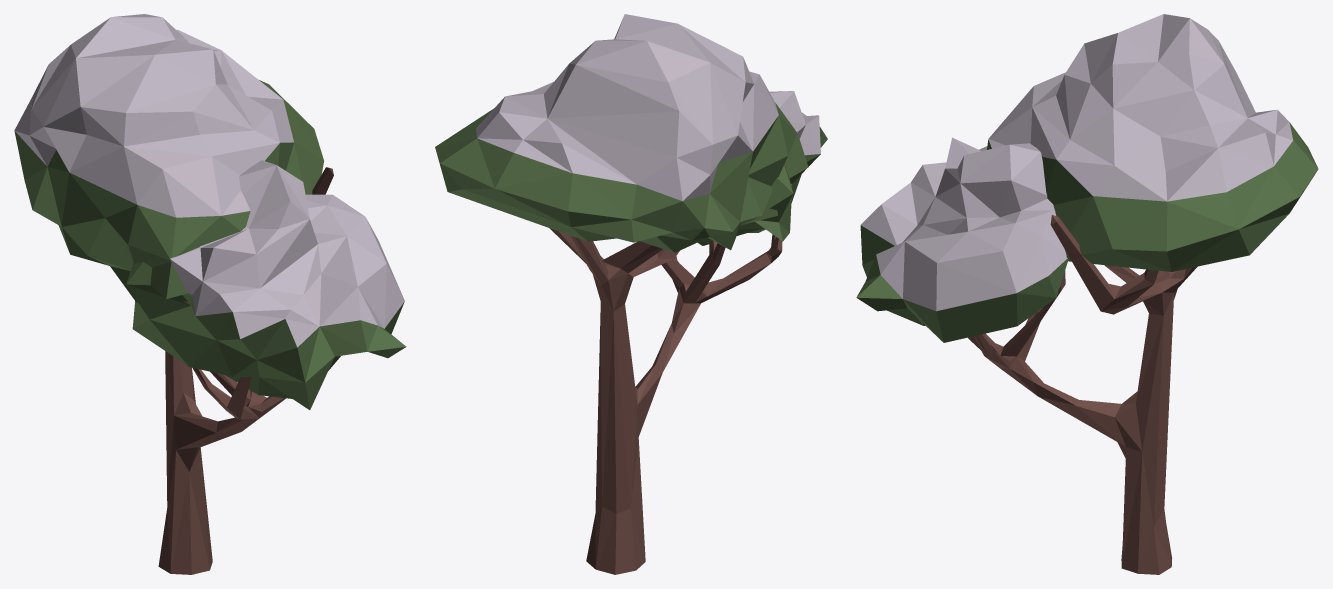
File: CommonTree_Snow_2.lod2.glb
3 views of the same model, side by side, from view 1: azimuth 30°, elevation 25°; view 2: azimuth 150°, elevation 25°; view 3: azimuth 270°, elevation 25° (orthographic). The views are drawn at different scales.
Parts seen in each view (by area): view 1: CommonTree_Snow_2; view 2: CommonTree_Snow_2; view 3: CommonTree_Snow_2.
Boxes of the visible parts, <box> form: CommonTree_Snow_2: <box>14,14,406,574</box>; CommonTree_Snow_2: <box>435,14,827,574</box>; CommonTree_Snow_2: <box>856,14,1318,574</box>.
Size of the model in its own units: 1.66 by 3.16 by 2.54.
